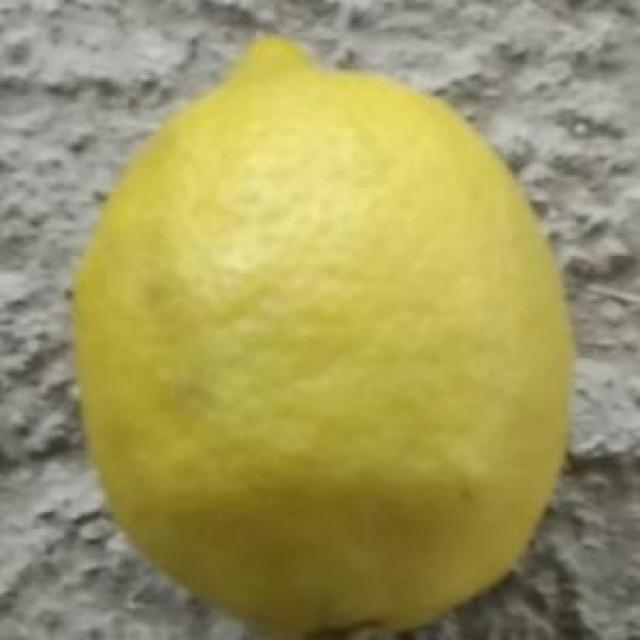lemon: (70, 37, 588, 632)
